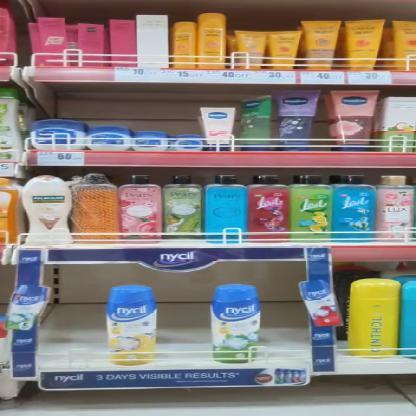Nycil Prickly Heat Powder: (214, 284, 264, 360), (110, 286, 158, 365)
